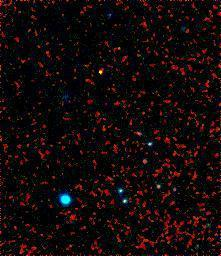star: (85, 53, 115, 83)
